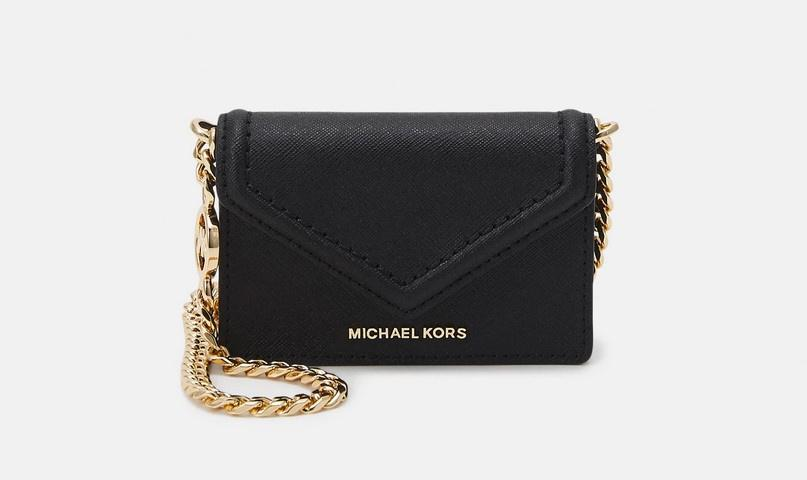MICHAEL-KORS: (349, 327, 467, 339)
